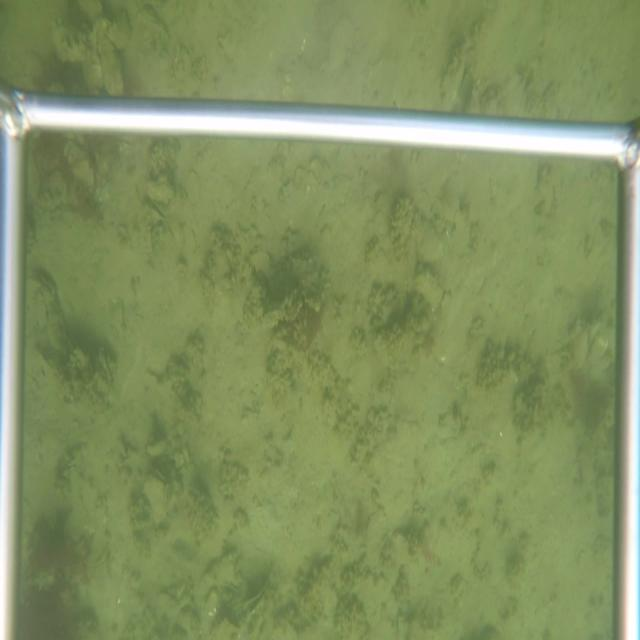Oyster-Open: (143, 466, 168, 528), (148, 199, 165, 225)
